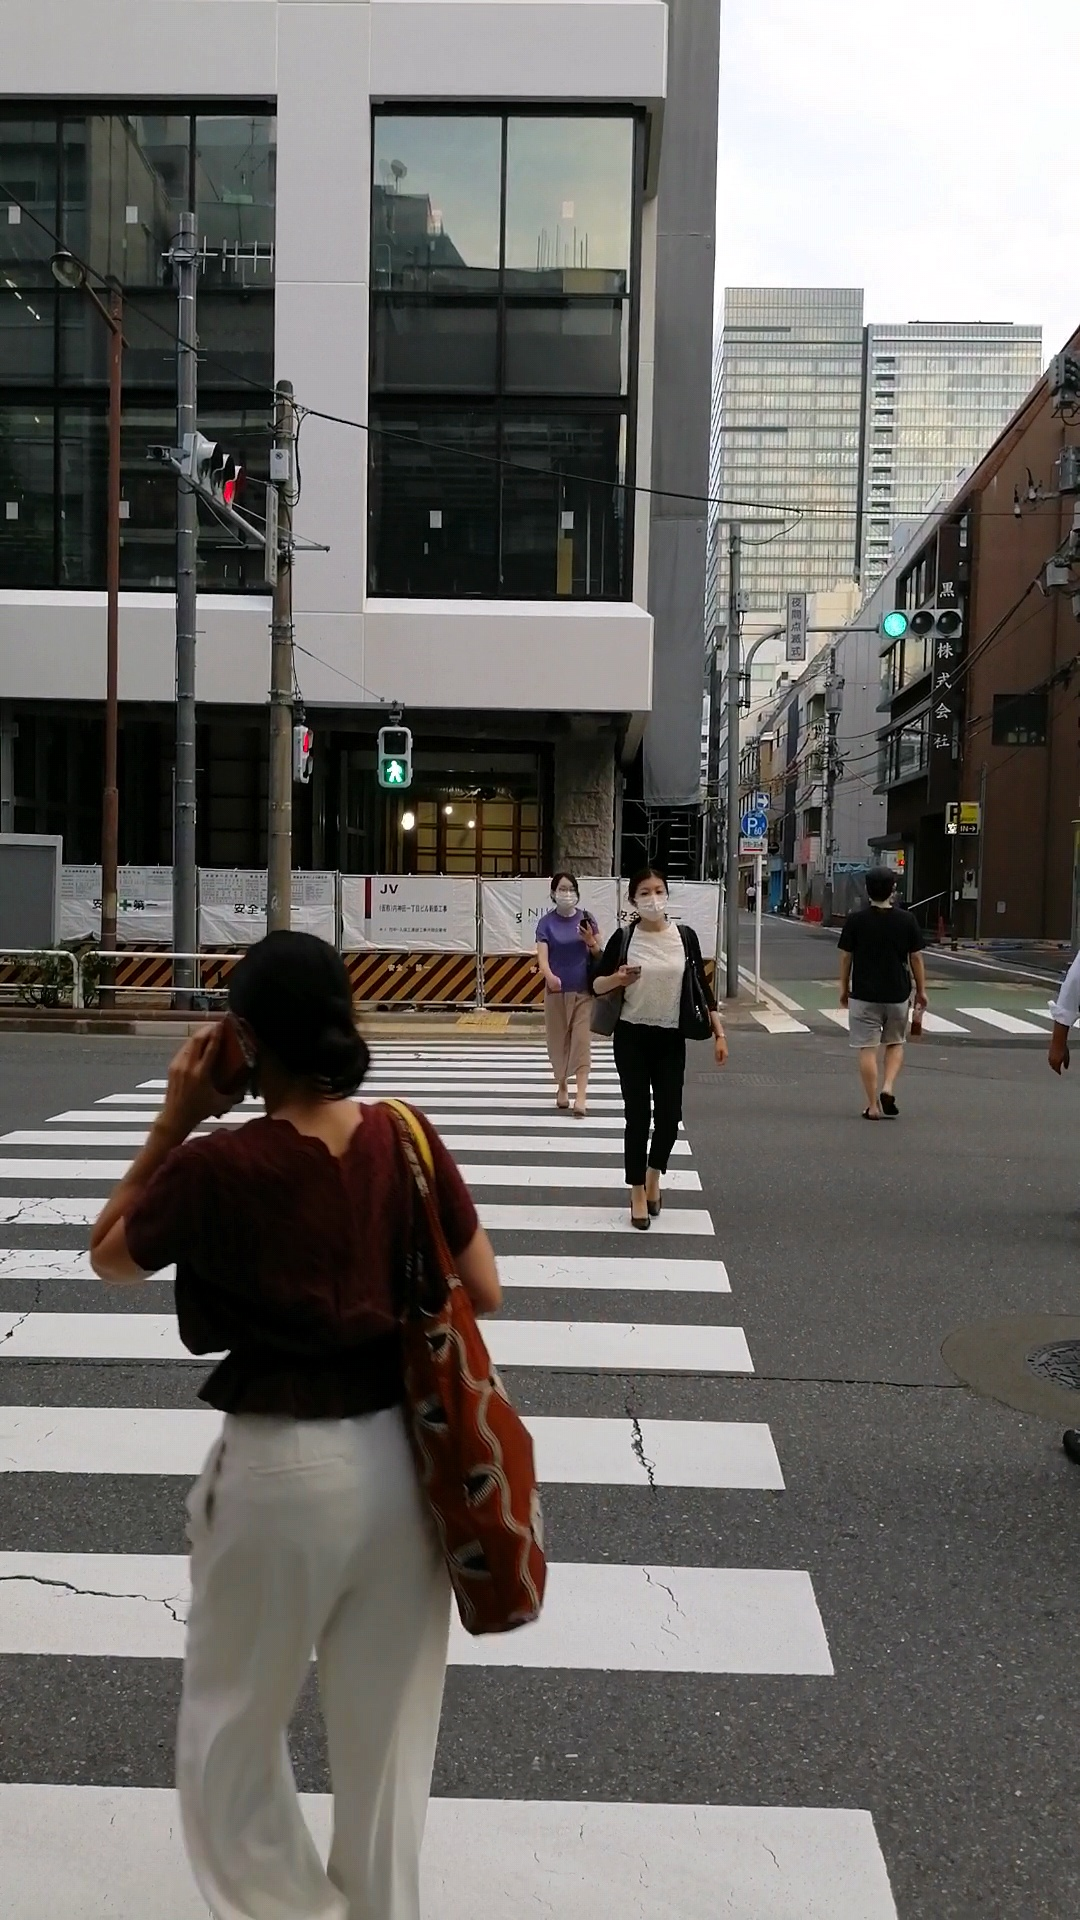green: (376, 725, 413, 789)
